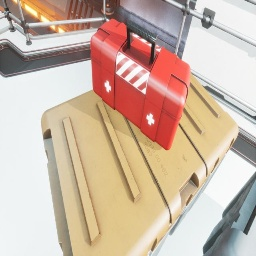FirstAidBox ,: (90, 19, 191, 151)
